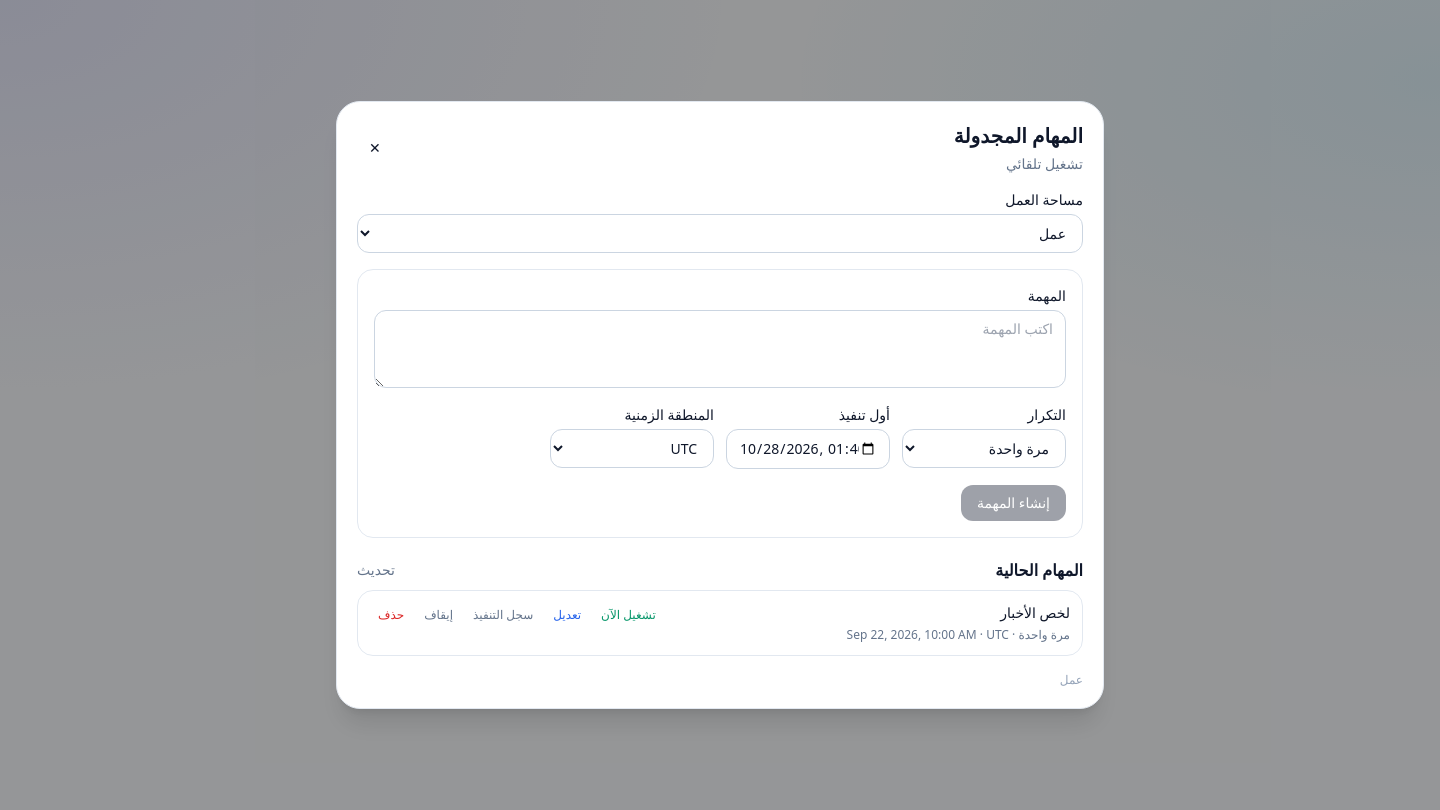
Test: ScheduledTasksPanel › يشغّل المهمة الآن ويحمّل سجل التنفيذ
This screenshot has width=1440, height=810.
Expected: the text "لخص الأخبار" is shown, [1000, 603, 1070, 622]
Click the button "تشغيل الآن" at (628, 615), box [593, 603, 664, 627]
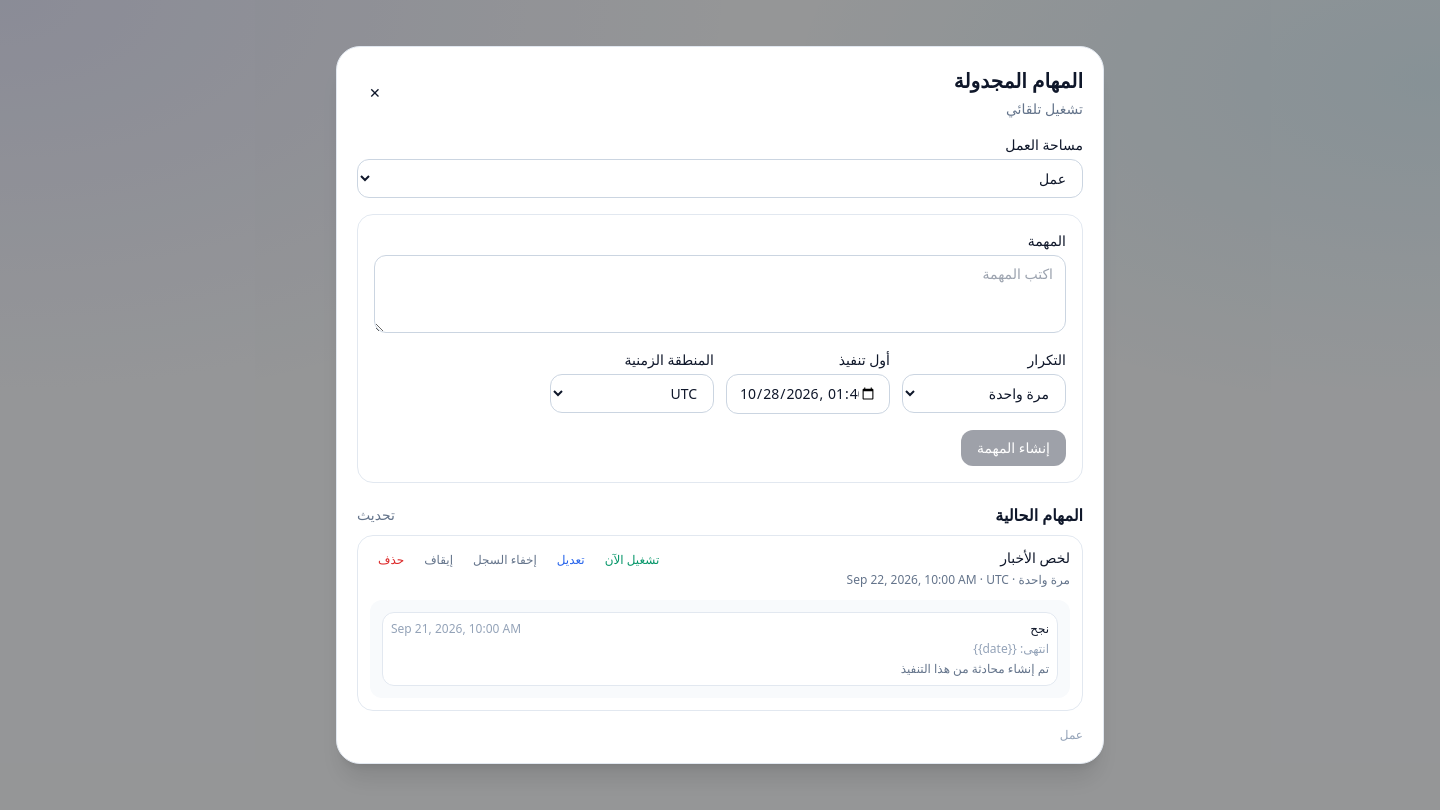
Expected: the button "إخفاء السجل" is shown, [465, 548, 545, 572]
Expected: the text "نجح" is shown, [1030, 621, 1049, 637]
Expected: the text "تم إنشاء محادثة من هذا التنفيذ" is shown, [901, 660, 1049, 677]
